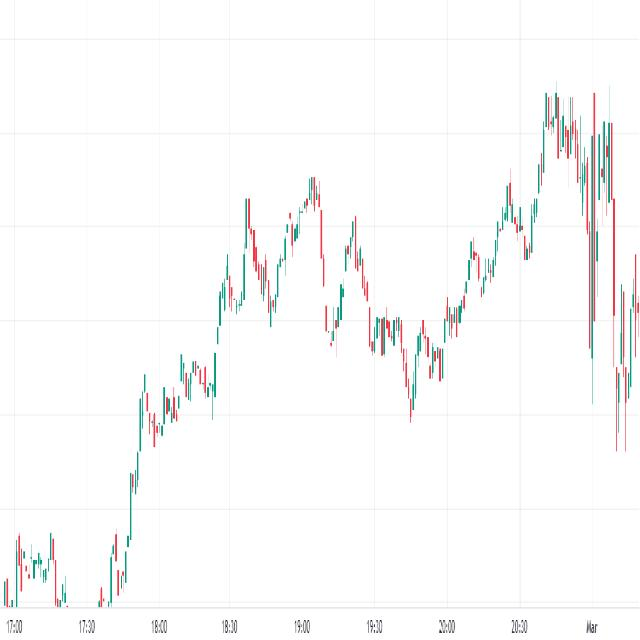Double-Top: (237, 143, 333, 375)
Inverse-Head-Shoulders: (362, 263, 461, 435)
